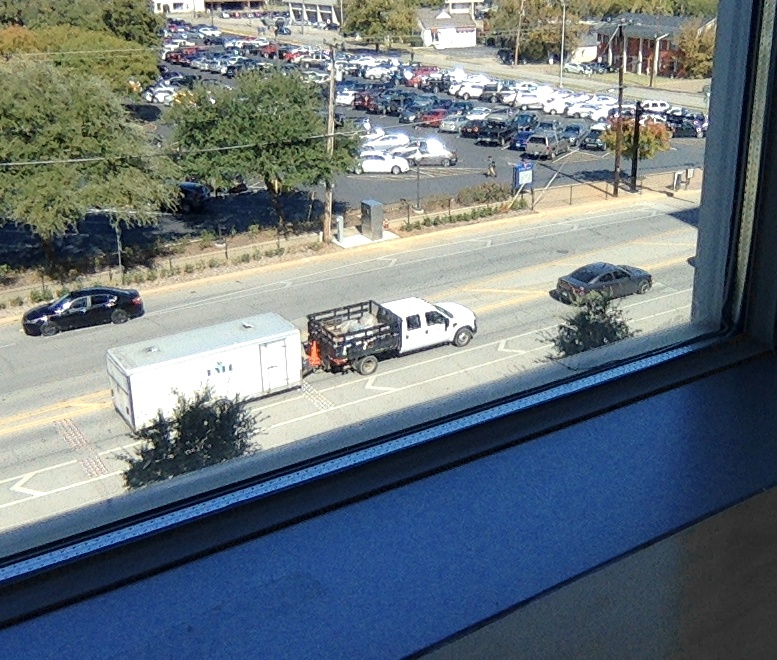car: (300, 300, 477, 380)
